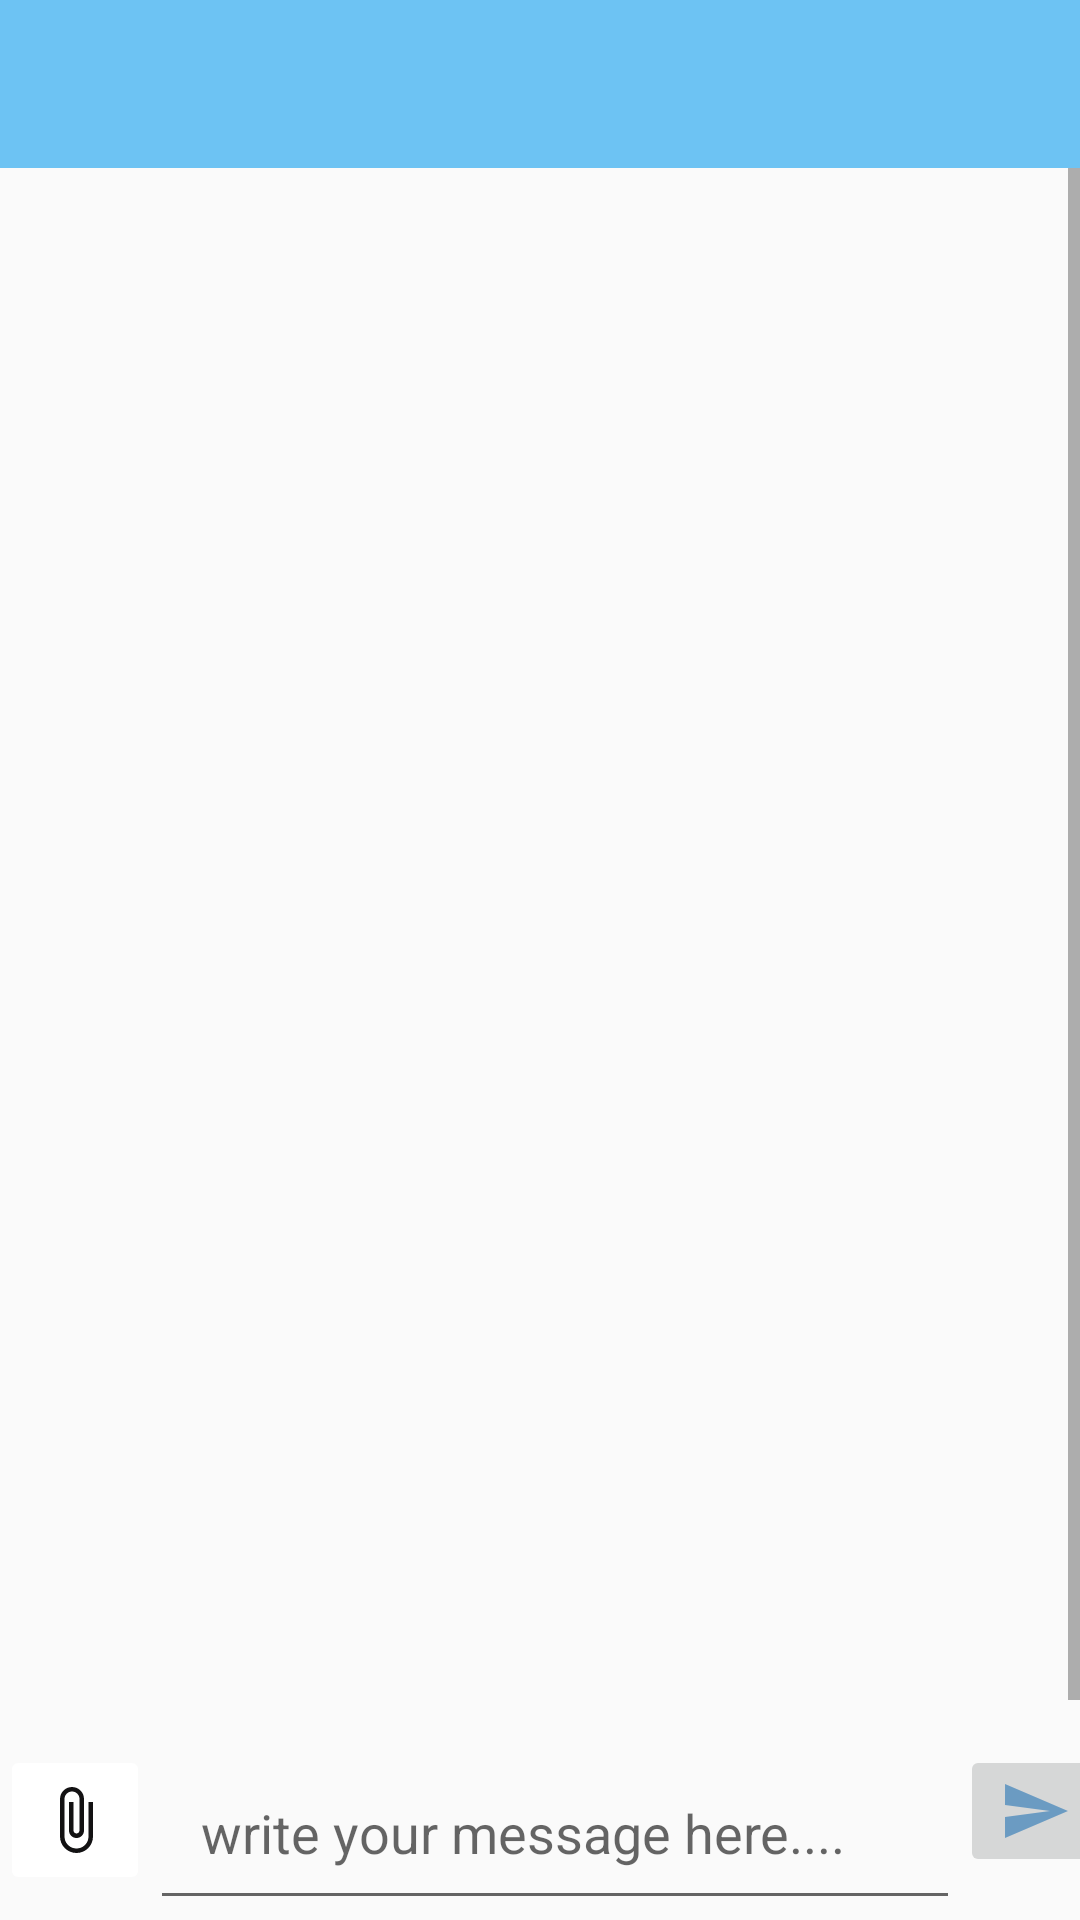

Icon click points for this 1080px x 1920px phone screenshot, format (x=x, y=y):
attach file: (x=76, y=1820)
